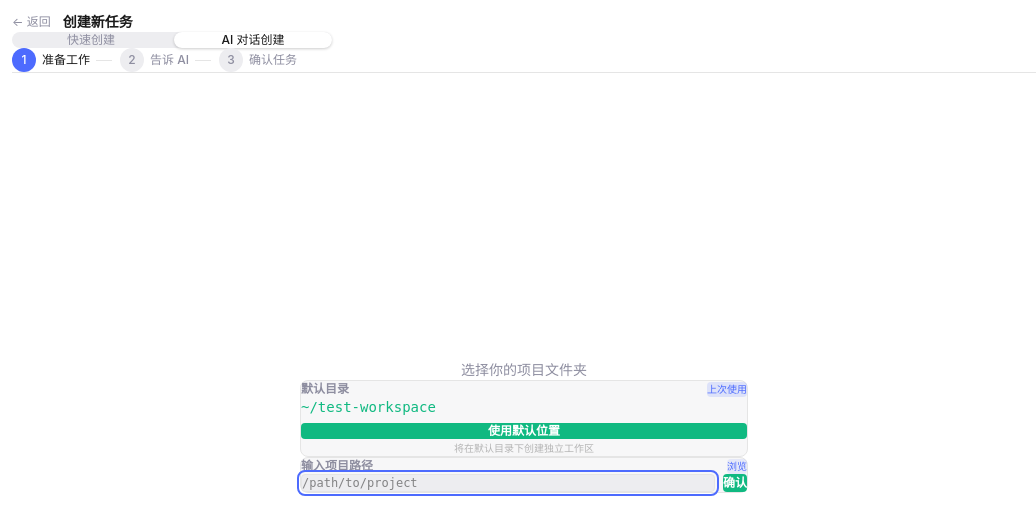
TaskWizard › mode switching › should switch back to wizard mode from quick create
Click the button "快速创建" at (91, 40), box [12,32,170,48]
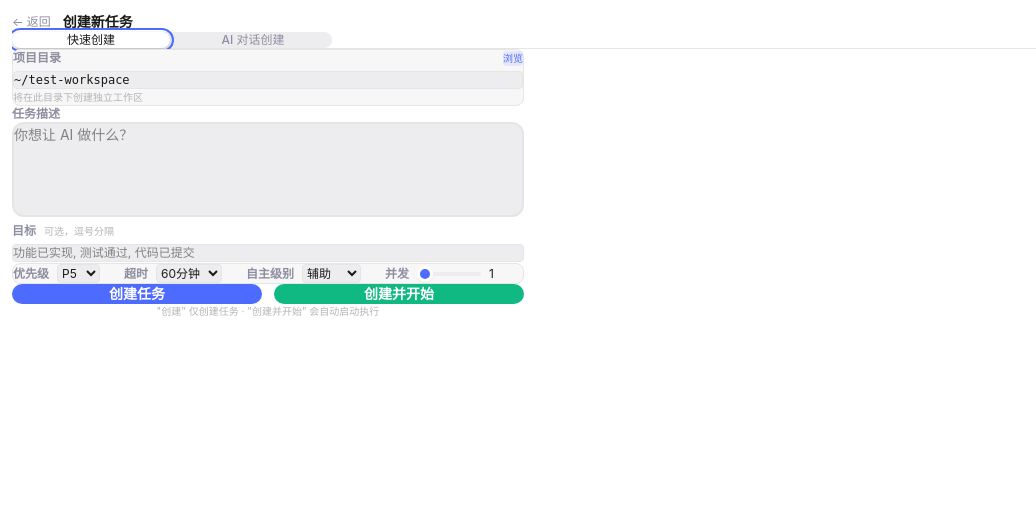
Check: the heading "任务描述" is shown, box [12,106,60,121]
Click the button "AI 对话创建" at (253, 40), box [174,32,332,48]
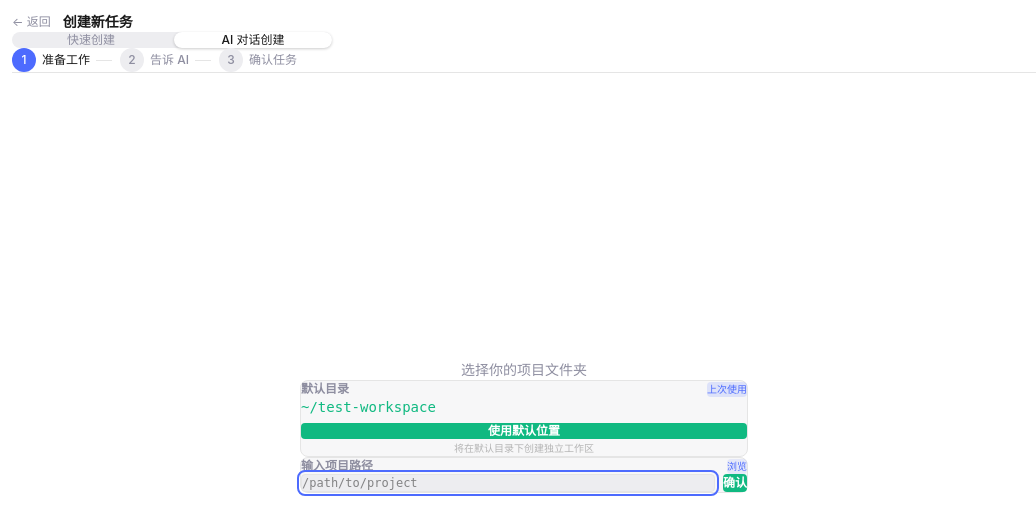
Check: the element named "任务创建步骤" is shown, box [12,48,297,72]
